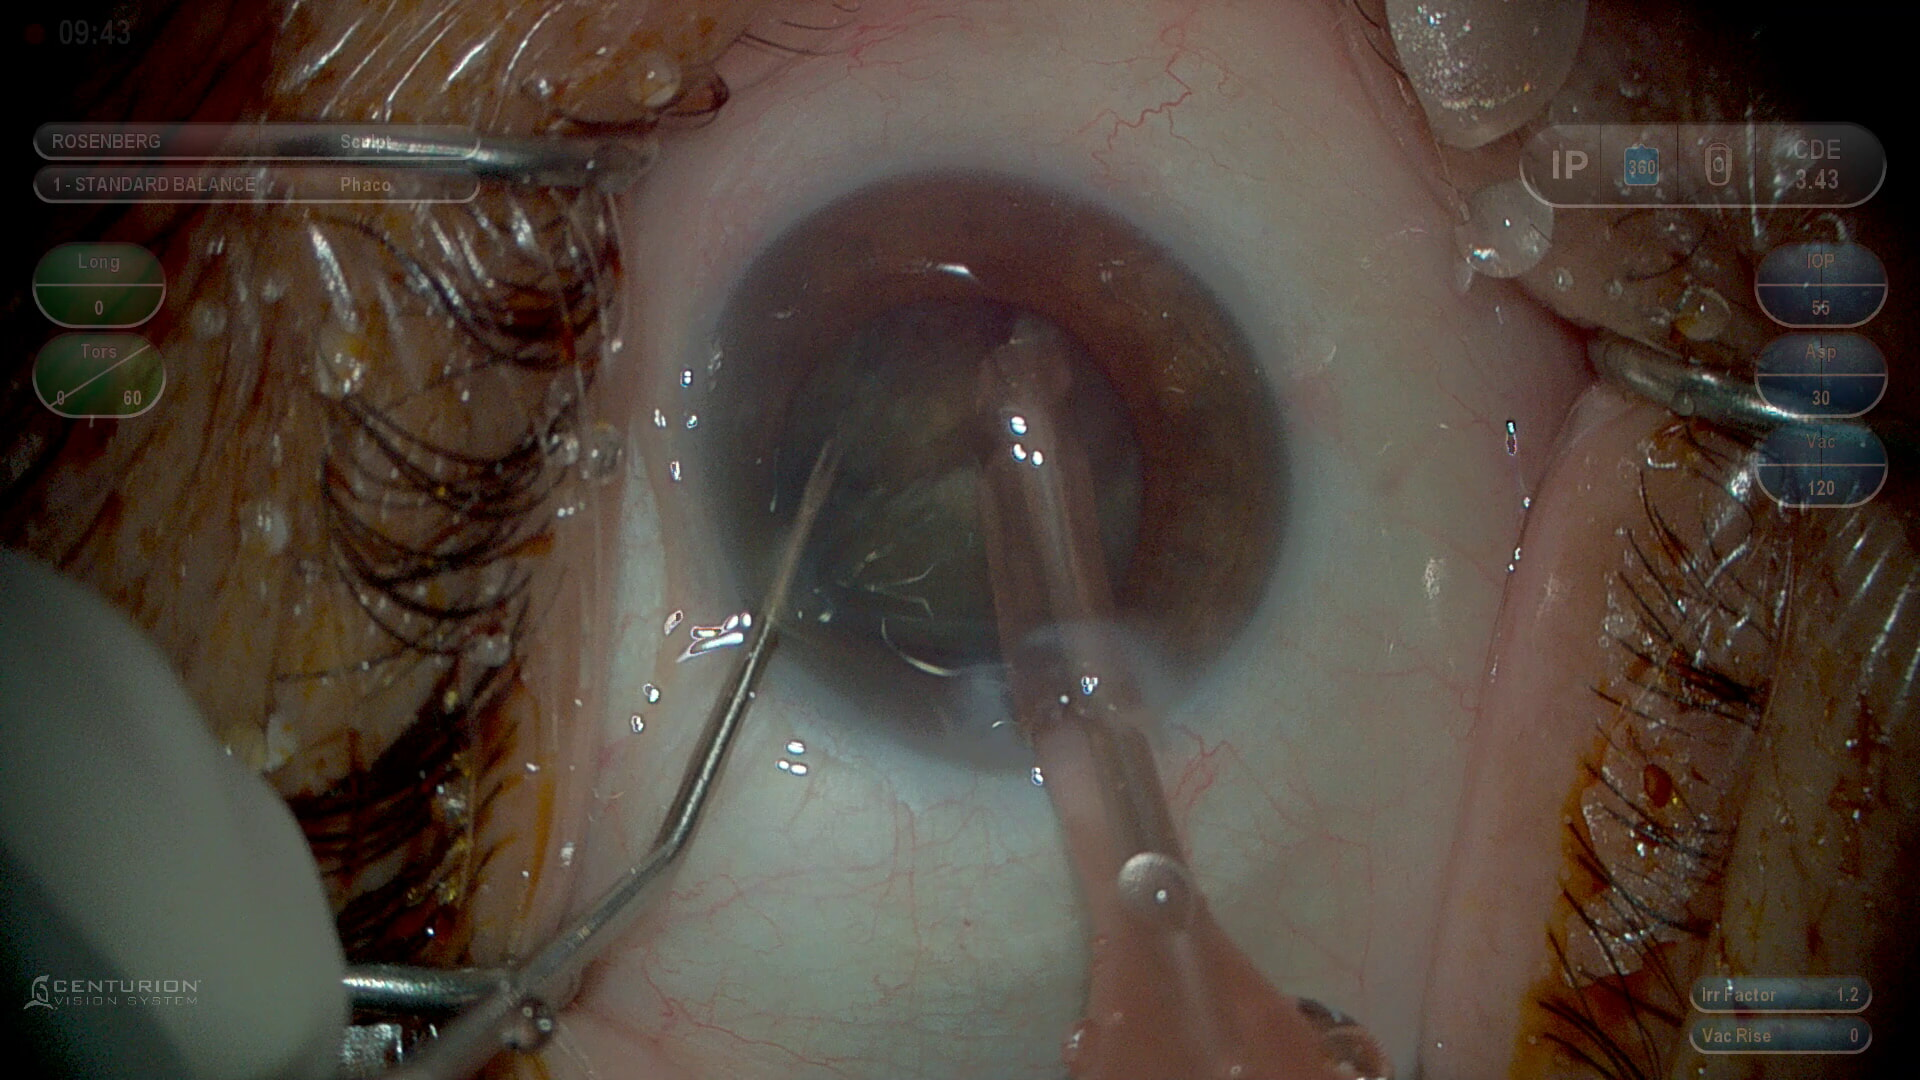iris: (716, 187, 1293, 756)
pupil: (771, 294, 1145, 665)
